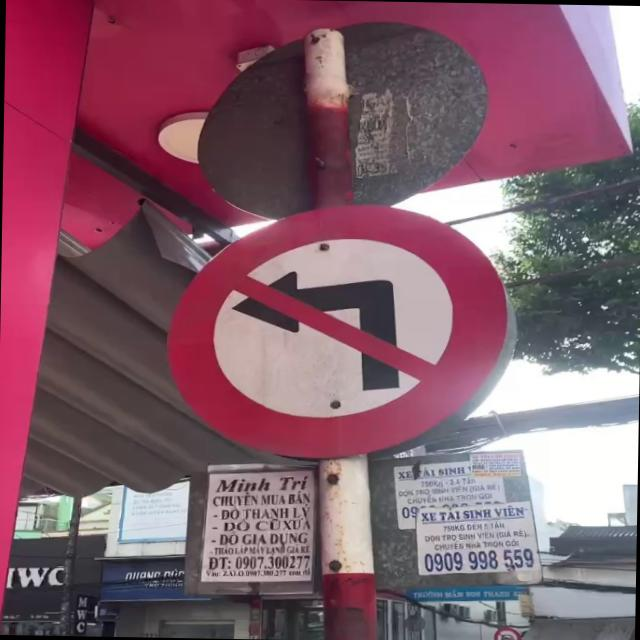Cam_Re_Trai: (163, 199, 518, 462)
